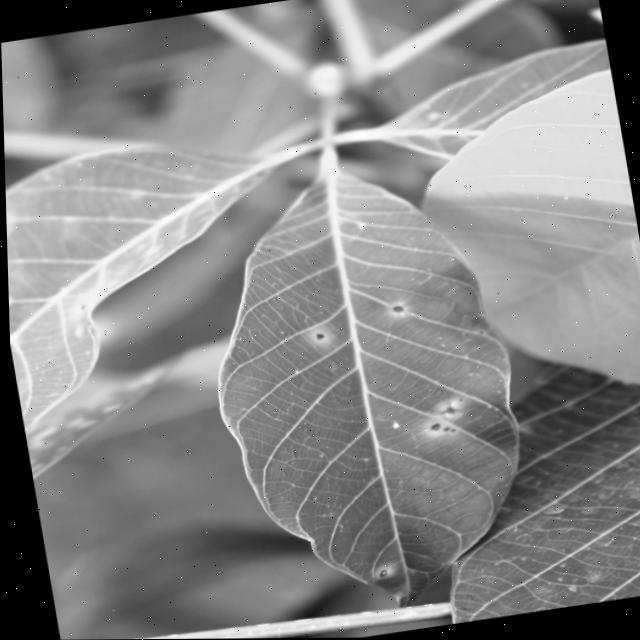Colletotrichum: (391, 305, 402, 313), (428, 424, 438, 432), (314, 333, 323, 340)
